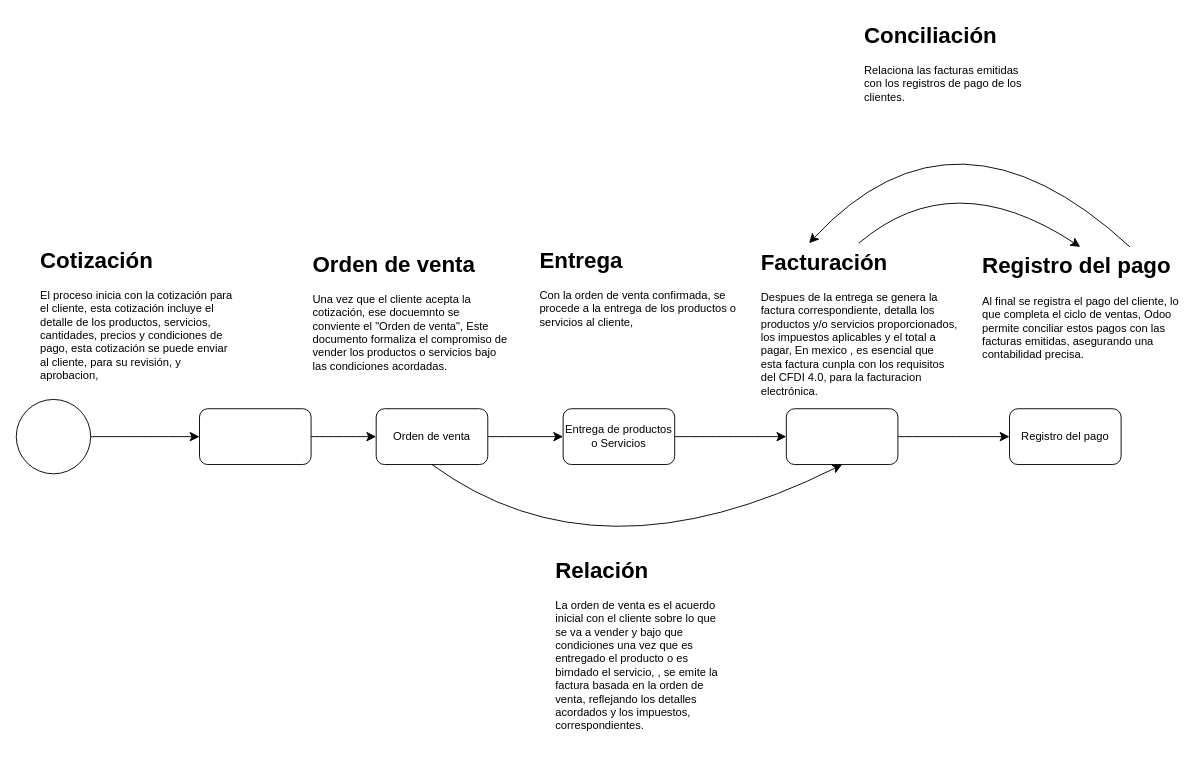
Some shapes in this 1196 by 774 pixel diagram are drawn without their labels. The shapes that lost their labels are listed below. From the top down, each one's centre as x and y in pixels, then its label:
At (255,436): "Cotización".
At (841,436): "Facturación".
